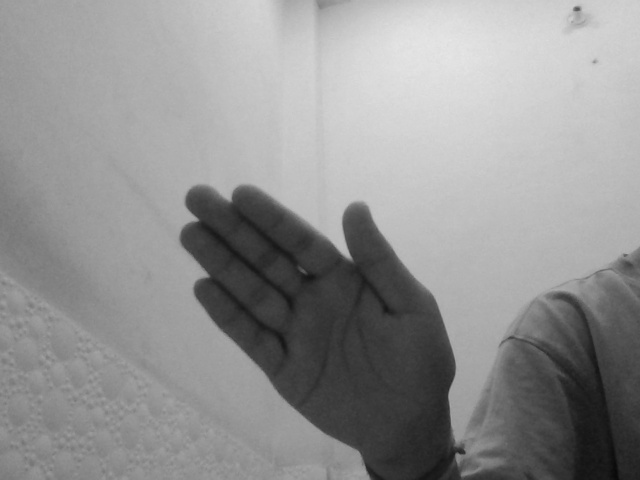Hello: (176, 183, 465, 457)
